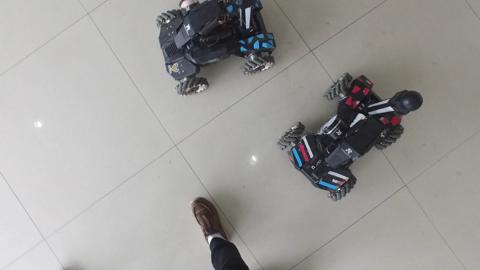chariot: (273, 68, 430, 207), (154, 1, 283, 104)
